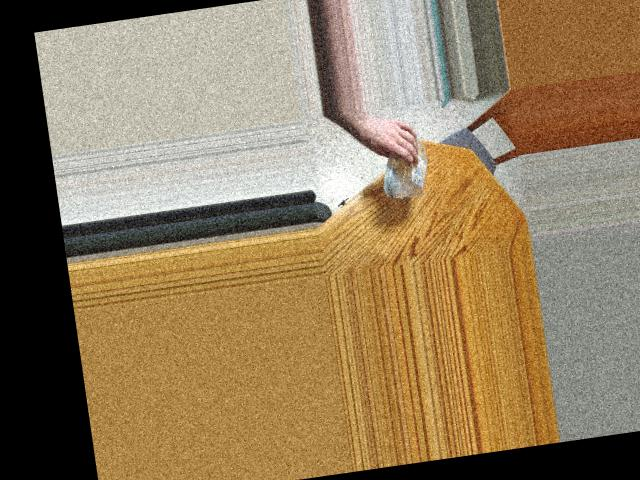cheese: (374, 124, 428, 183)
